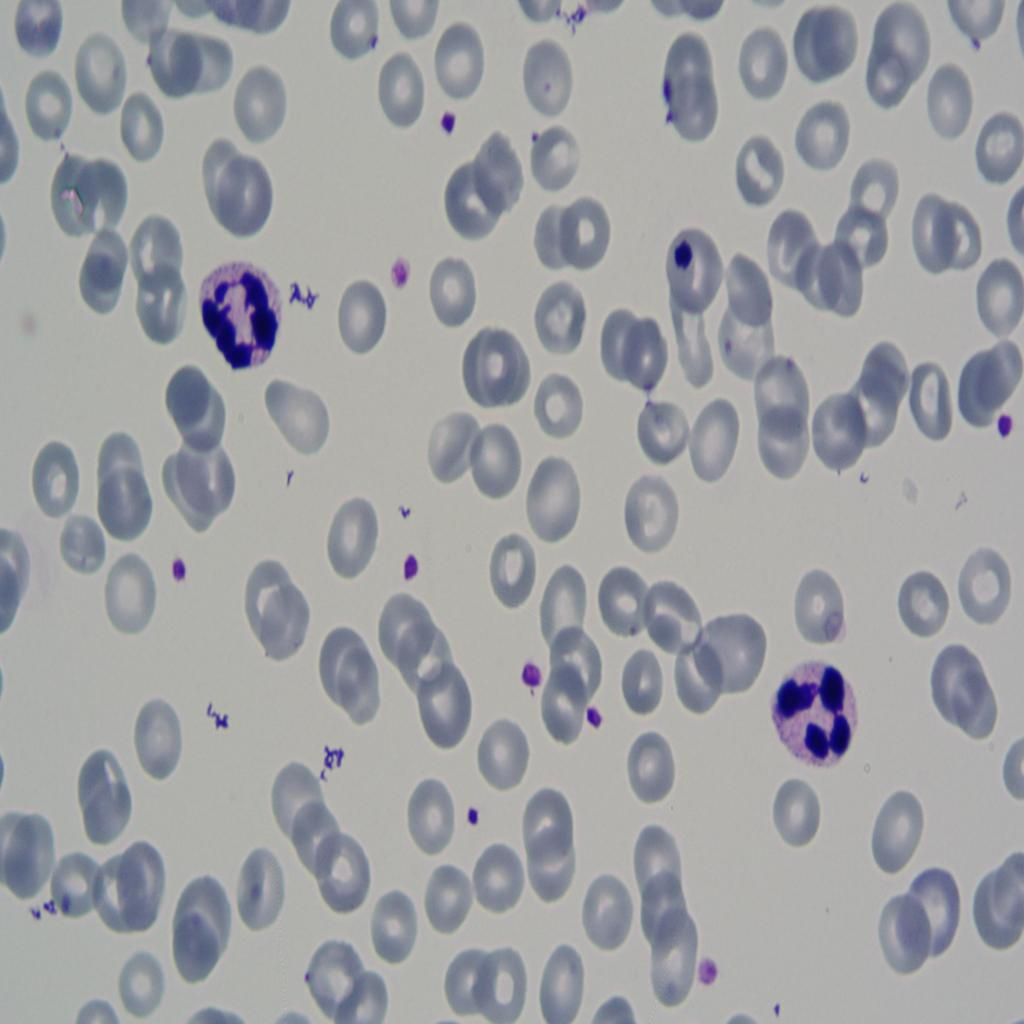Neutrofil: (764, 642, 872, 778), (195, 249, 287, 390)
Platelet: (450, 774, 490, 842), (435, 90, 475, 153), (392, 544, 435, 602), (671, 224, 705, 286), (686, 948, 720, 1003), (161, 546, 194, 590), (995, 404, 1019, 456), (586, 701, 608, 750), (388, 251, 410, 293), (521, 657, 542, 698)
